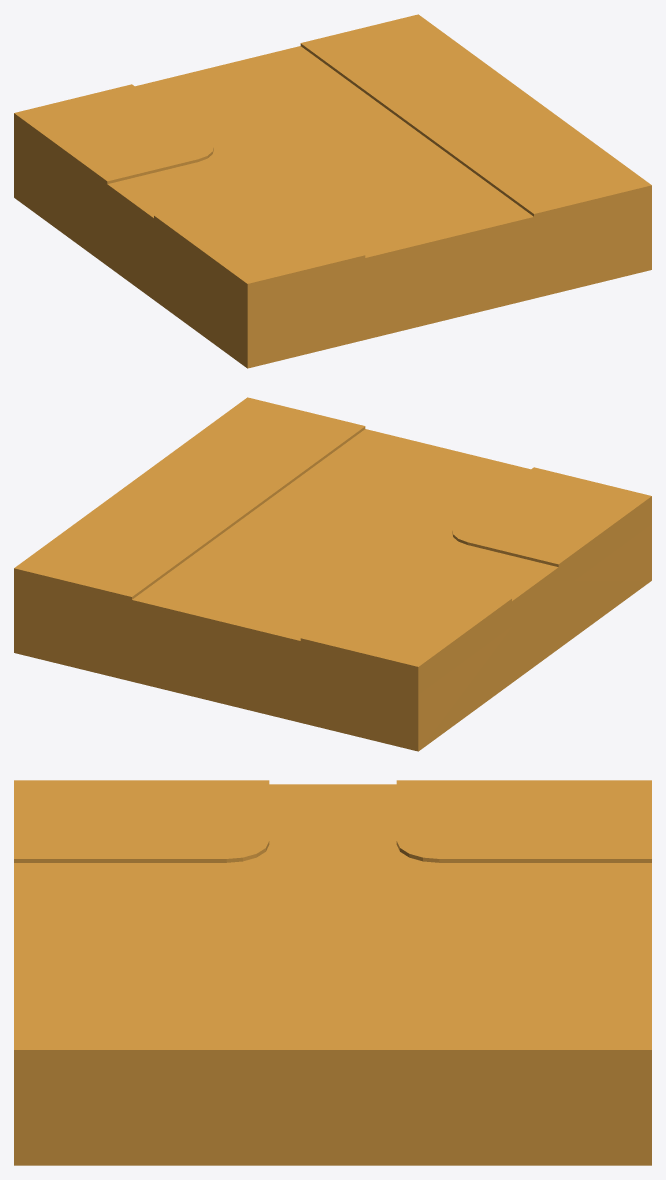
File: tile-road-mainroad-intersection-t.fbx
3 views of the same model, one above another, from view 1: azimuth 30°, elevation 25°; view 2: azimuth 150°, elevation 25°; view 3: azimuth 270°, elevation 25° (orthographic). The views are drawn at different scales.
Visible parts, largest first — view 1: tile-road-mainroad-intersection-t; view 2: tile-road-mainroad-intersection-t; view 3: tile-road-mainroad-intersection-t.
Part boxes in pixels (x1=…): tile-road-mainroad-intersection-t: x1=14, y1=14, x2=651, y2=368; tile-road-mainroad-intersection-t: x1=14, y1=397, x2=651, y2=751; tile-road-mainroad-intersection-t: x1=14, y1=780, x2=651, y2=1165.
Size of the model in its own units: 30 by 6 by 30.
